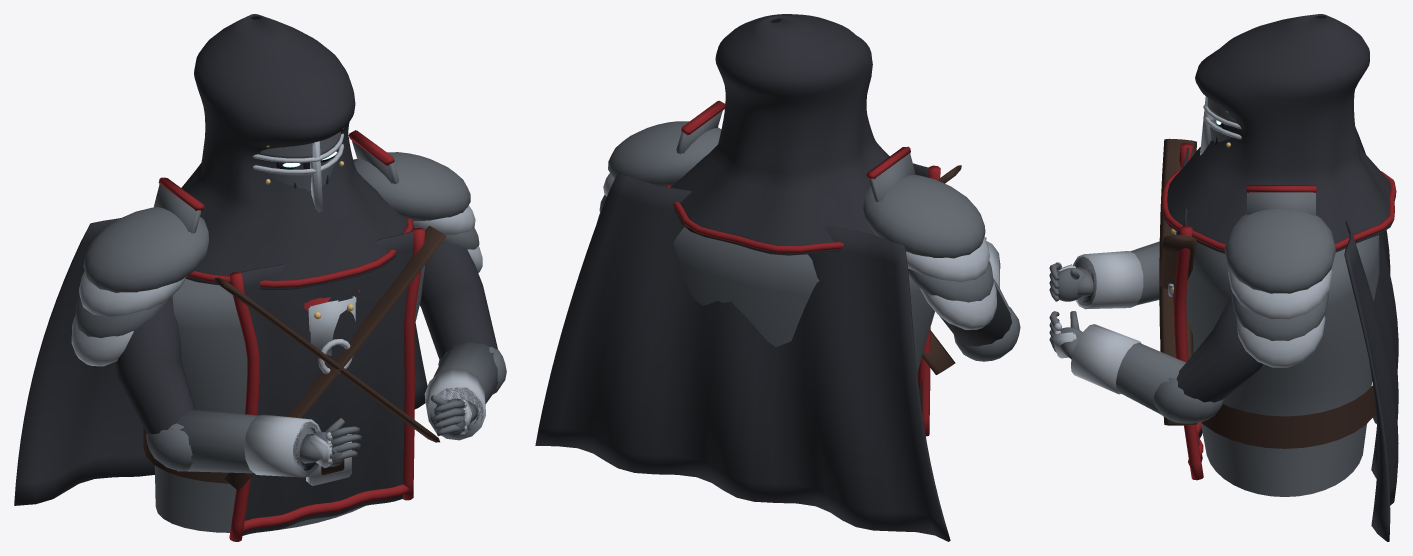
File: mp_char_guillotine.glb
3 renders of one model, left to right at view 1: azimuth 30°, elevation 25°; view 2: azimuth 150°, elevation 25°; view 3: azimuth 270°, elevation 25°, orthographic. The views are drawn at different scales.
Parts seen in each view (by area): view 1: ExecHoodCowl, ExecBattleSurcoat, ExecBackCape, ExecIronCuirass, ExecPauldronLame_L_0, ExecSleeve_L, ExecSleeve_R, ExecPauldronLame_R_0, ExecGauntletVambrace_L, ExecHarnessStrap_R, ExecGauntletCuffRim_L, SurcoatCrimsonTrim_R (+20 smaller); view 2: ExecBackCape, ExecHoodCowl, ExecIronCuirass, ExecPauldronLame_L_0, ExecPauldronLame_R_0, ExecPauldronLame_L_1, ExecPauldronLame_L_3, ExecPauldronLame_L_2, ExecCowlCrimsonEdge, ExecSleeve_L, ExecElbowCop_L, SurcoatCrimsonTrim_L (+2 smaller); view 3: ExecHoodCowl, ExecIronCuirass, ExecBackCape, ExecPauldronLame_R_0, ExecWaistBelt, ExecSleeve_R, ExecGauntletCuffRim_L, ExecGauntletCuffRim_R, ExecGauntletVambrace_R, ExecHarnessStrap_L, ExecPauldronLame_R_1, SurcoatCrimsonTrim_R (+9 smaller).
Boxes of the visible parts, <box> form: ExecHoodCowl: <box>181,14,414,290</box>; ExecBattleSurcoat: <box>241,231,413,535</box>; ExecBackCape: <box>14,159,427,505</box>; ExecIronCuirass: <box>154,265,424,532</box>; ExecPauldronLame_L_0: <box>83,207,208,292</box>; ExecSleeve_L: <box>115,296,315,470</box>; ExecSleeve_R: <box>420,240,497,429</box>; ExecPauldronLame_R_0: <box>353,152,470,221</box>; ExecGauntletVambrace_L: <box>171,409,319,474</box>; ExecHarnessStrap_R: <box>224,226,446,490</box>; ExecGauntletCuffRim_L: <box>244,414,320,477</box>; SurcoatCrimsonTrim_R: <box>403,228,424,500</box>; ExecBackCape: <box>535,173,950,541</box>; ExecHoodCowl: <box>670,14,889,255</box>; ExecIronCuirass: <box>673,227,934,373</box>; ExecPauldronLame_L_0: <box>863,175,985,258</box>; ExecPauldronLame_R_0: <box>608,121,721,186</box>; ExecPauldronLame_L_1: <box>906,237,989,281</box>; ExecPauldronLame_L_3: <box>919,281,996,329</box>; ExecPauldronLame_L_2: <box>908,261,993,302</box>; ExecCowlCrimsonEdge: <box>666,185,844,252</box>; ExecSleeve_L: <box>939,284,1012,346</box>; ExecElbowCop_L: <box>953,306,1020,361</box>; SurcoatCrimsonTrim_L: <box>918,165,940,436</box>; ExecHoodCowl: <box>1162,14,1395,253</box>; ExecIronCuirass: <box>1186,235,1379,496</box>; ExecBackCape: <box>1344,127,1398,541</box>; ExecPauldronLame_R_0: <box>1224,209,1335,293</box>; ExecWaistBelt: <box>1201,385,1375,448</box>; ExecSleeve_R: <box>1176,296,1262,402</box>; ExecGauntletCuffRim_L: <box>1073,251,1143,309</box>; ExecGauntletCuffRim_R: <box>1071,324,1141,394</box>; ExecGauntletVambrace_R: <box>1116,343,1185,422</box>; ExecHarnessStrap_L: <box>1159,138,1196,425</box>; ExecPauldronLame_R_1: <box>1228,268,1332,319</box>; SurcoatCrimsonTrim_R: <box>1174,225,1203,480</box>.
Size of the model in its own units: 0.8238 by 0.8621 by 0.6343.
